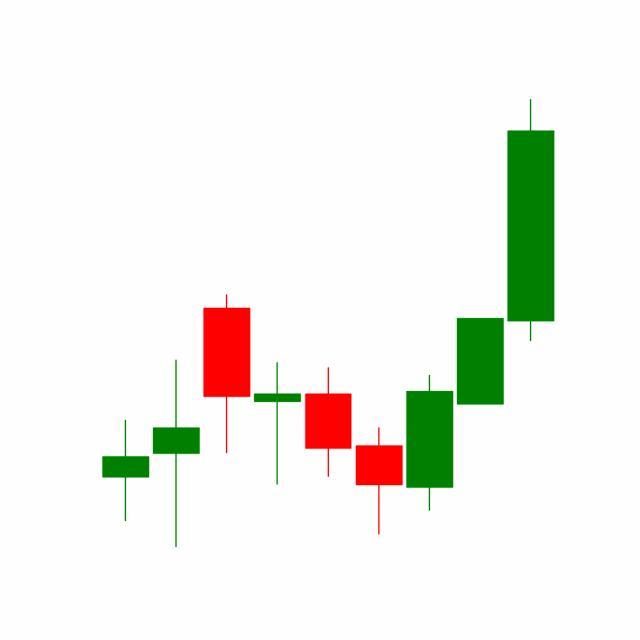Hikkake Pattern: (252, 316, 506, 538)
